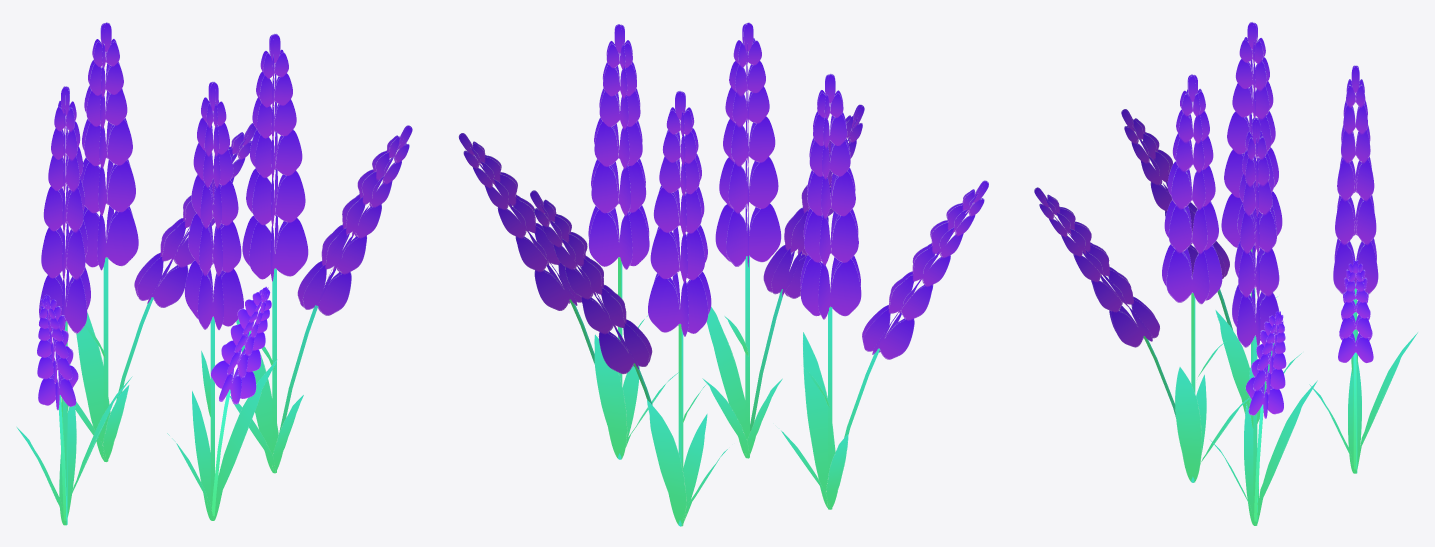
Rendered from Flowers_n03_02.fbx.
3 views of the same model, side by side, from view 1: azimuth 30°, elevation 25°; view 2: azimuth 150°, elevation 25°; view 3: azimuth 270°, elevation 25° (orthographic). The views are drawn at different scales.
Parts seen in each view (by area): view 1: polySurface444; view 2: polySurface444; view 3: polySurface444.
Boxes of the visible parts, <box> form: polySurface444: <box>16,22,412,525</box>; polySurface444: <box>458,22,988,526</box>; polySurface444: <box>1034,22,1417,525</box>.
Bounding box in the file's own units: 96.88 × 89.18 × 76.24.
Materials: 1 (1 with a texture image).
